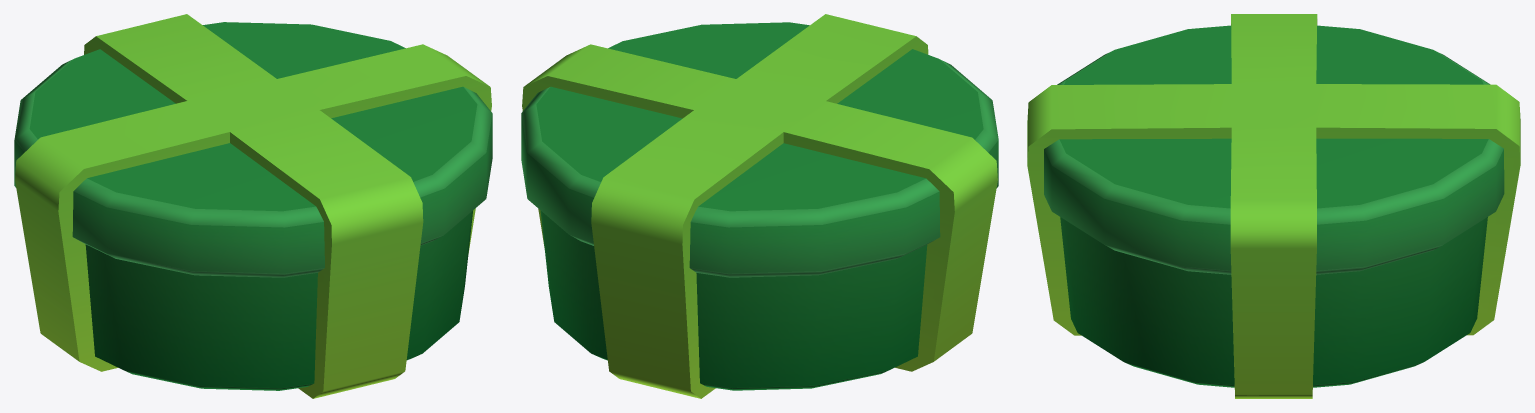
File: giftbox_020.fbx
3 renders of one model, left to right at view 1: azimuth 30°, elevation 25°; view 2: azimuth 150°, elevation 25°; view 3: azimuth 270°, elevation 25°, orthographic.
Parts seen in each view (by area): view 1: giftbox_020; view 2: giftbox_020; view 3: giftbox_020.
Boxes of the visible parts, x1,y1,x2,y2 form: giftbox_020: [14, 14, 492, 398]; giftbox_020: [521, 14, 998, 398]; giftbox_020: [1027, 14, 1520, 398].
Bounding box in the file's own units: 235 × 232 × 109.
